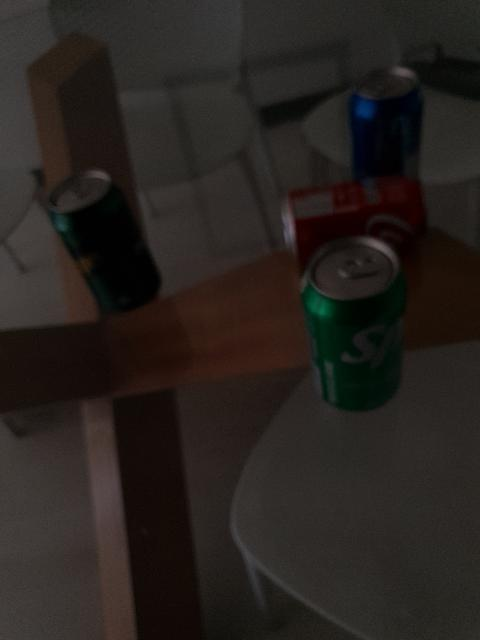coke: (281, 182, 426, 258)
pepsi: (350, 69, 424, 181)
schweppes: (48, 168, 158, 314)
sprite: (304, 233, 406, 414)
